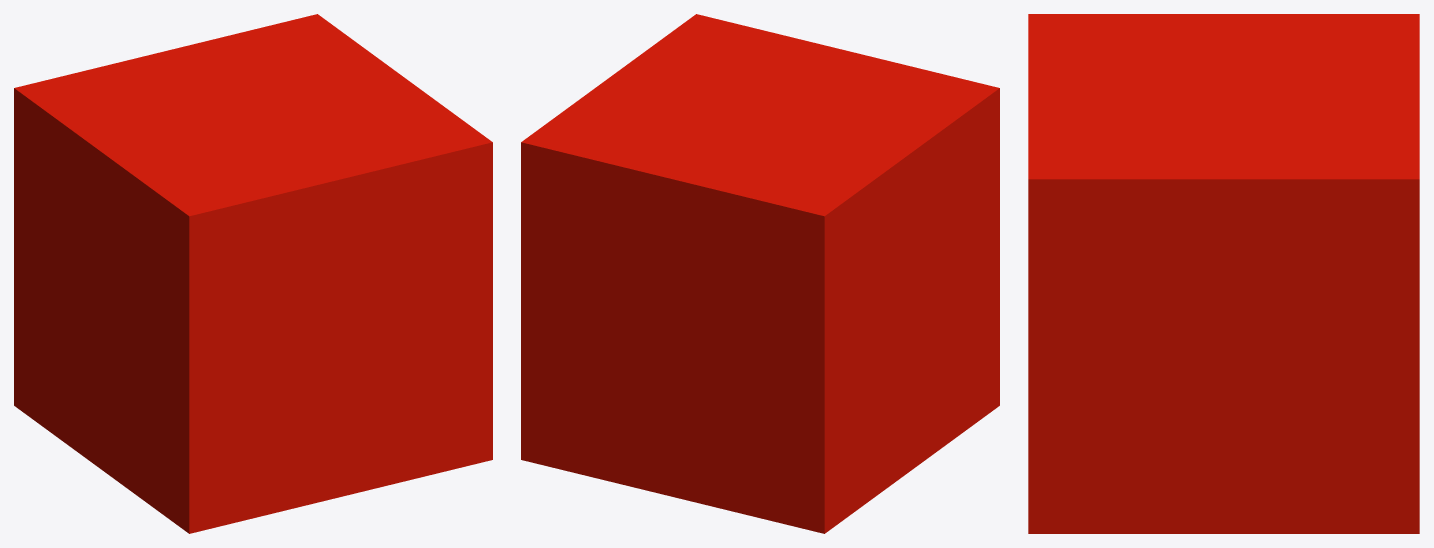
File: jambusariyas_animation_2.glb
3 views of the same model, side by side, from view 1: azimuth 30°, elevation 25°; view 2: azimuth 150°, elevation 25°; view 3: azimuth 270°, elevation 25° (orthographic). The views are drawn at different scales.
Parts seen in each view (by area): view 1: Cube; view 2: Cube; view 3: Cube.
Boxes of the visible parts, bbox=[...] form: Cube: bbox=[14, 14, 492, 533]; Cube: bbox=[521, 14, 999, 533]; Cube: bbox=[1028, 14, 1419, 533].
Size of the model in its own units: 2 by 2 by 2.
